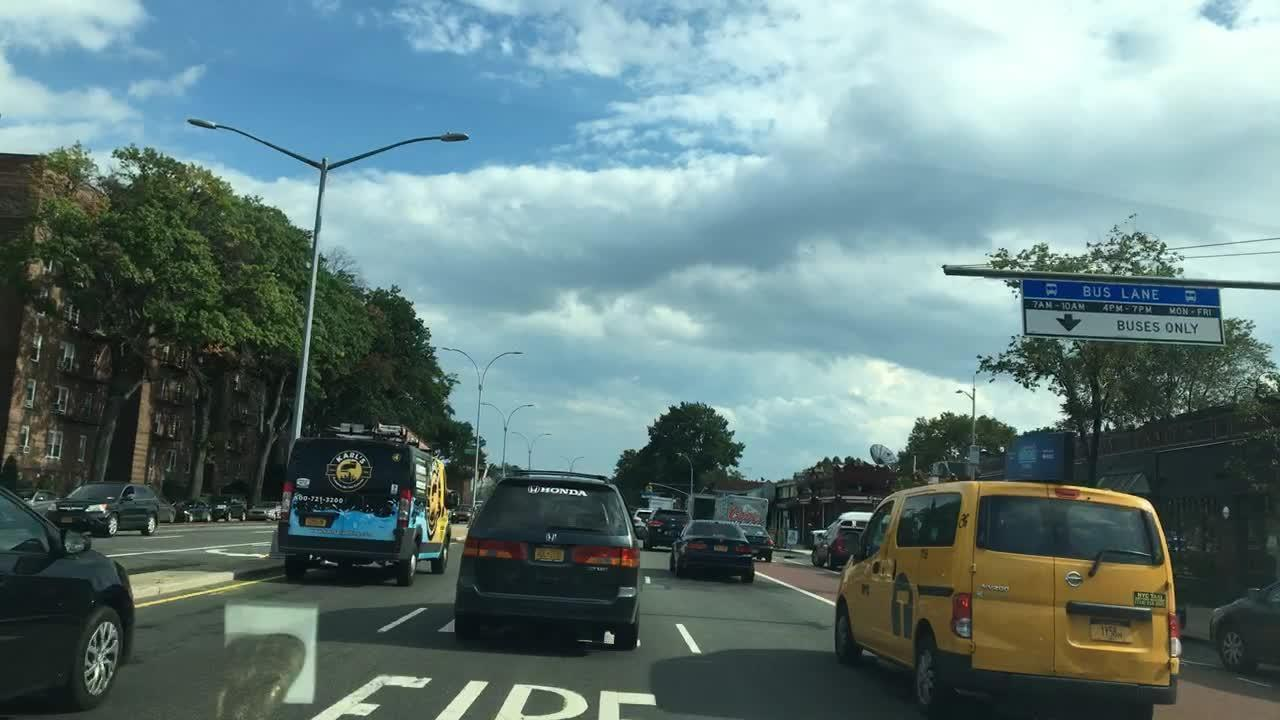Nissan: (1064, 569, 1085, 591)
